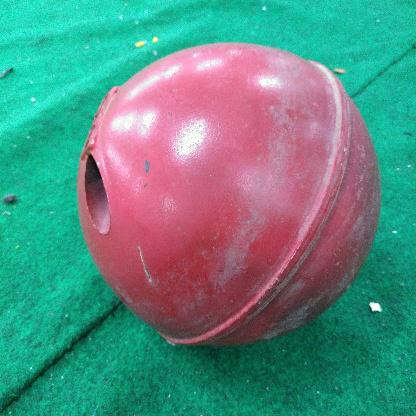red_buoy: (74, 40, 384, 360)
